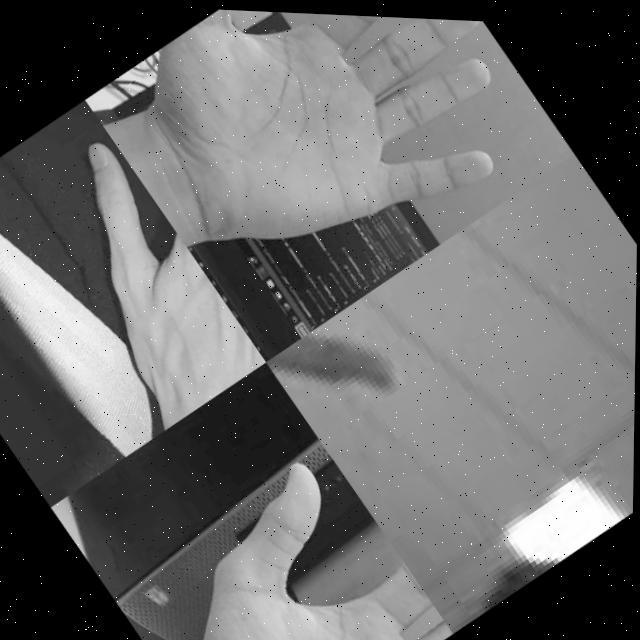no-gloves: (102, 4, 561, 334), (0, 112, 269, 451), (265, 167, 587, 446), (105, 429, 458, 640)
